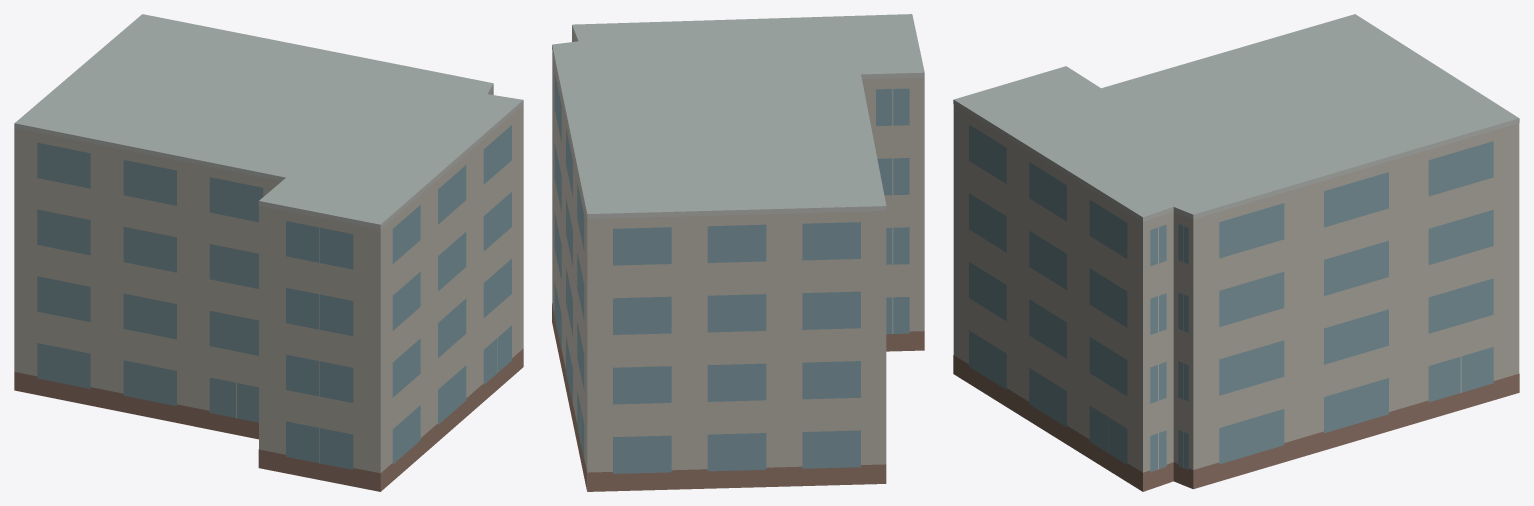
Rendered from survey-upis-32819927.glb.
3 views of the same model, side by side, from view 1: azimuth 30°, elevation 25°; view 2: azimuth 150°, elevation 25°; view 3: azimuth 270°, elevation 25° (orthographic). The views are drawn at different scales.
Parts seen in each view (by area): view 1: survey-upis-32819927.tmp; view 2: survey-upis-32819927.tmp; view 3: survey-upis-32819927.tmp.
Part boxes in pixels (bbox=[...]): survey-upis-32819927.tmp: bbox=[14, 14, 523, 491]; survey-upis-32819927.tmp: bbox=[552, 14, 924, 491]; survey-upis-32819927.tmp: bbox=[953, 14, 1519, 491].
Bounding box in the file's own units: 22.58 × 14.2 × 26.54.
